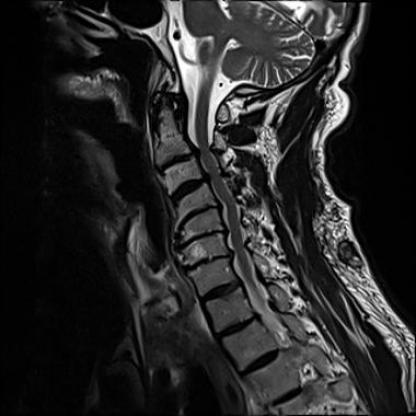Disc Bulgerotation: (178, 249, 234, 270), (172, 206, 217, 225), (167, 180, 207, 201), (174, 233, 226, 246), (155, 155, 199, 170)
Osteophytesrotation: (178, 249, 234, 270), (166, 180, 207, 201), (172, 206, 217, 225), (174, 233, 225, 246), (154, 156, 199, 170)
